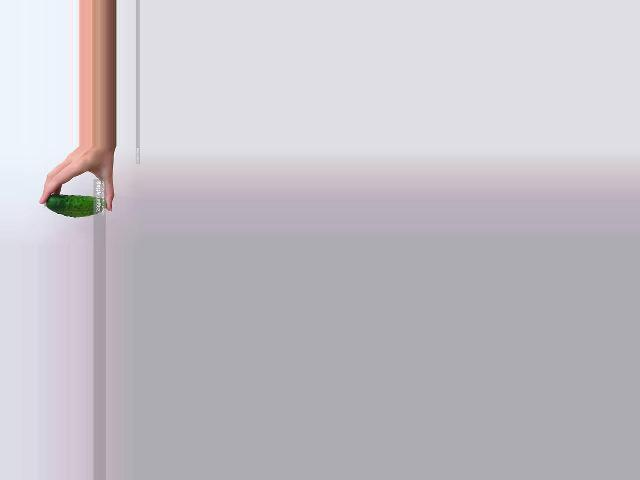cucumber: (46, 195, 106, 218)
